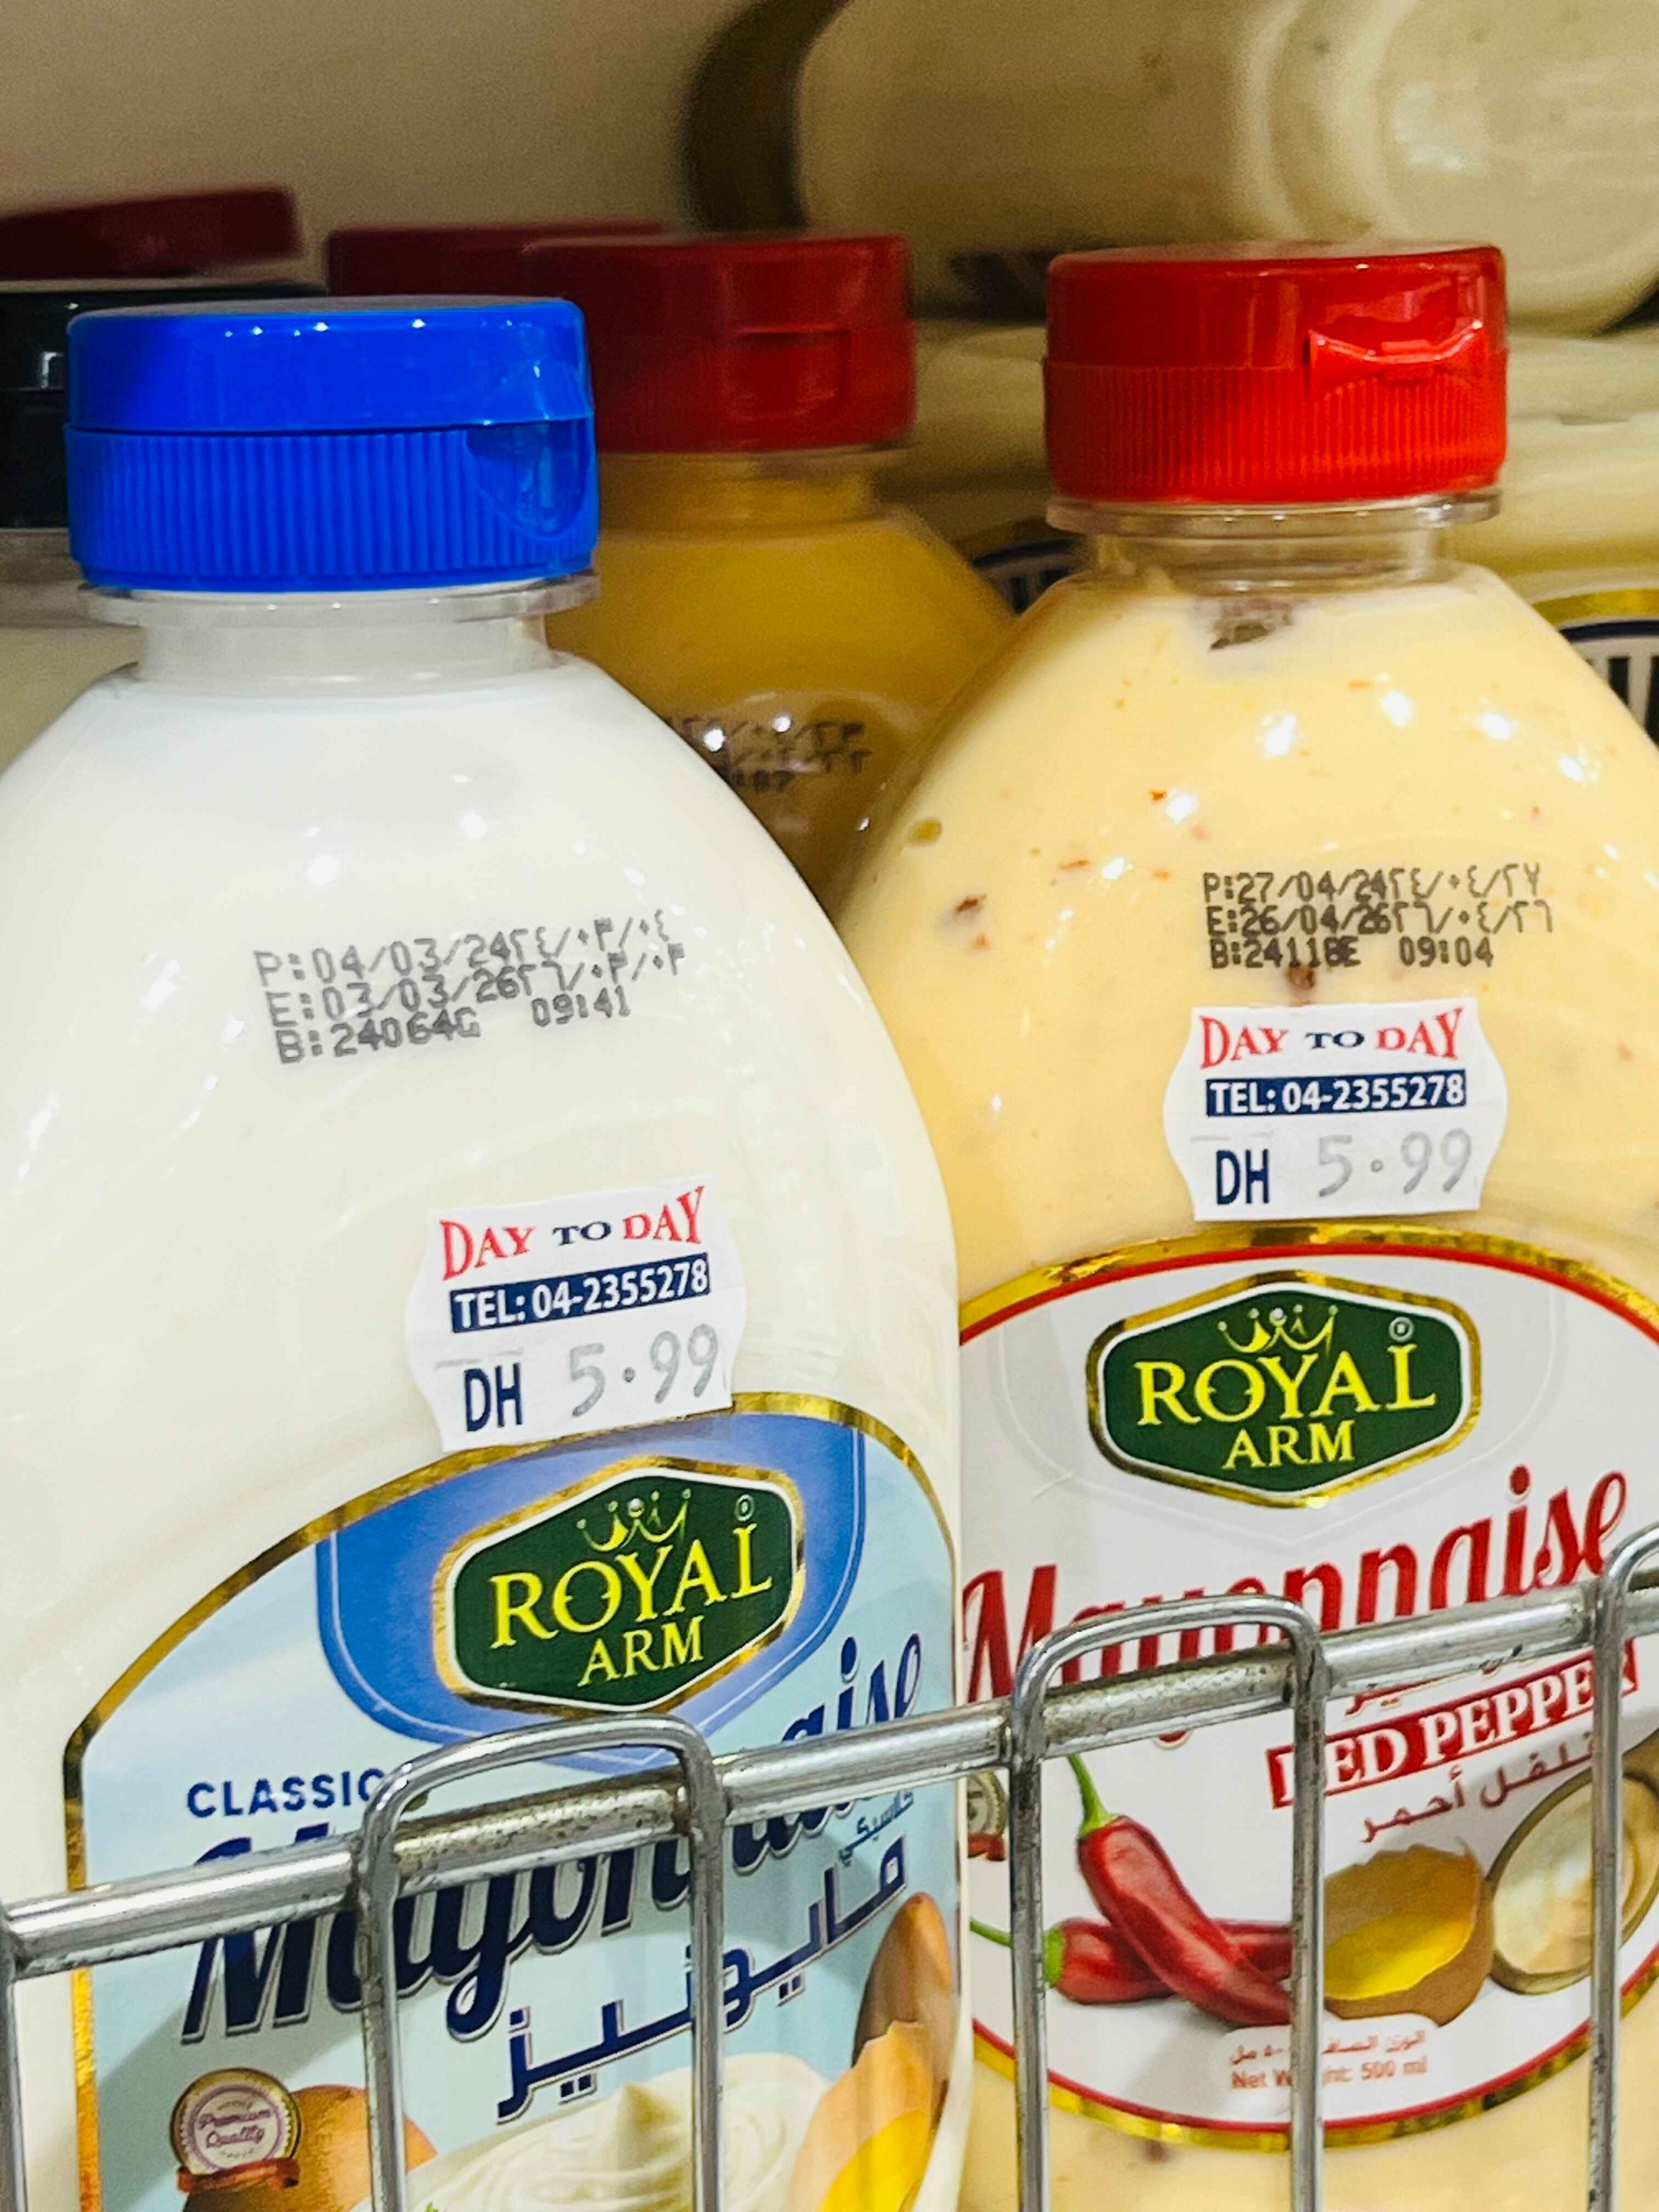PriceTagSmall: (410, 1170, 749, 1435), (1171, 996, 1516, 1216)
